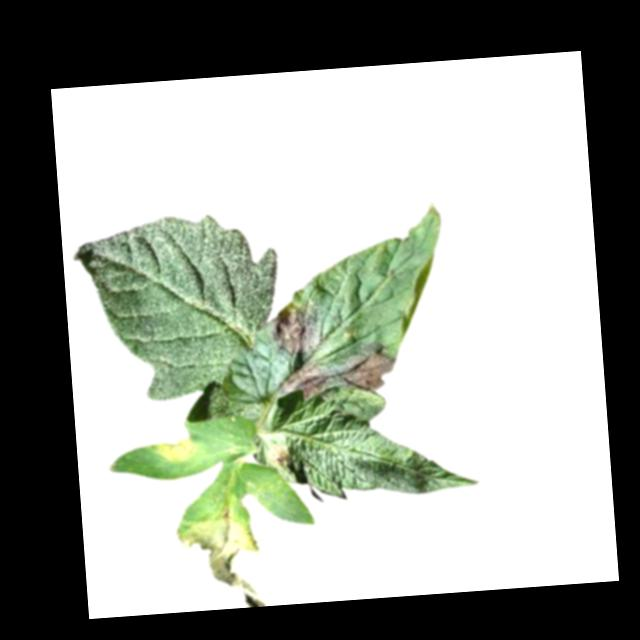Late_blight: (171, 506, 267, 612), (328, 338, 398, 395), (263, 299, 326, 356), (272, 360, 327, 401), (145, 434, 199, 466), (265, 440, 291, 468)
healthy: (68, 207, 286, 407)
